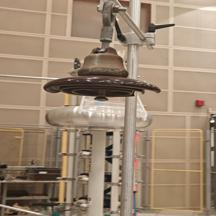insulator: (32, 44, 168, 107)
